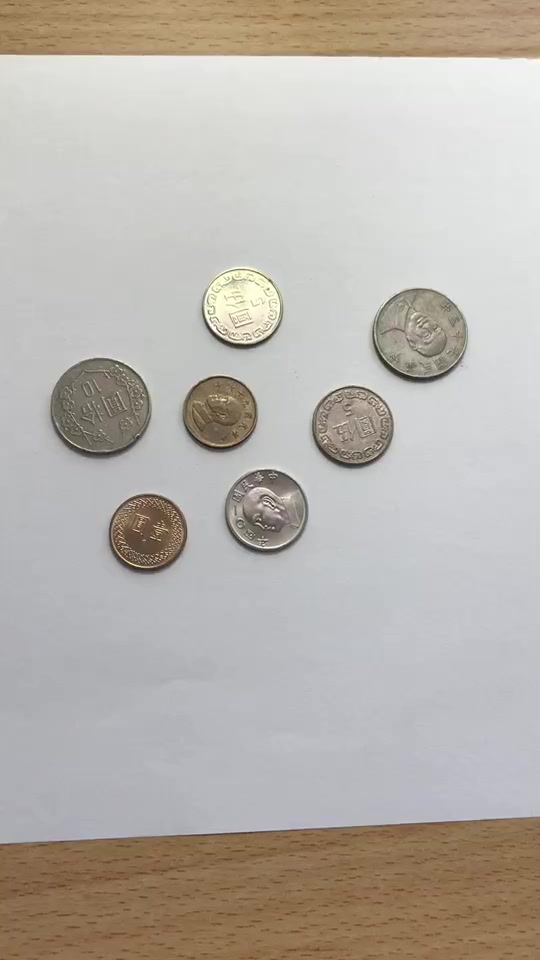1 dallar: (173, 366, 263, 459), (105, 488, 195, 581)
10 dallar: (43, 351, 158, 463), (365, 272, 480, 384)
5 dallar: (197, 257, 290, 352), (305, 382, 398, 477), (221, 464, 314, 559)
